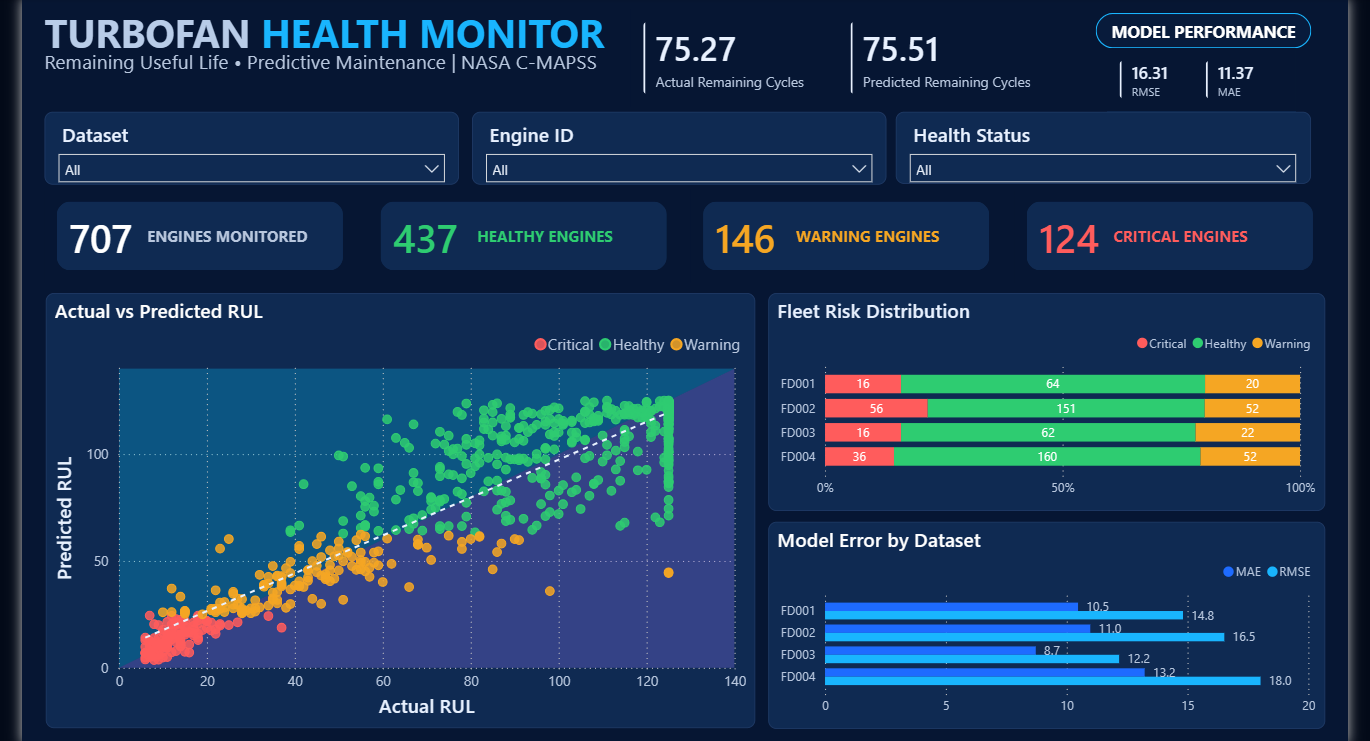

Layout of this report page (visuals, bound fields, positions):
{"tool":"powerbi","page":{"name":"Nasa","canvas":[1280,720],"ordinal":0},"visuals":[{"type":"textbox","box":[22,8,700,50],"z":0},{"type":"textbox","box":[21.7,48.3,699.7,25],"z":1000},{"type":"actionButton","box":[1036,14,208,34],"z":2000},{"type":"slicer","fields":{"Values":["vw_rul_dashboard.dataset"]},"box":[22,110,400,70],"z":3000},{"type":"slicer","fields":{"Values":["vw_rul_dashboard.engine_id"]},"box":[434,110,400,70],"z":4000},{"type":"slicer","fields":{"Values":["vw_rul_dashboard.Health Status"]},"box":[843.3,109.8,400.5,70],"z":5000},{"type":"cardVisual","fields":{"Data":["vw_rul_dashboard.Engines Count"]},"box":[22,185,300,90],"z":6000},{"type":"textbox","box":[116.2,215,182.5,30],"z":7000},{"type":"cardVisual","fields":{"Data":["vw_rul_dashboard.Healthy Engines"]},"box":[334,185,300,90],"z":8000},{"type":"textbox","box":[433.8,215,181.2,30],"z":9000},{"type":"cardVisual","fields":{"Data":["vw_rul_dashboard.Critical Engines"]},"box":[958,185,300,90],"z":10000},{"type":"textbox","box":[1048.8,215,181.2,30],"z":11000},{"type":"cardVisual","fields":{"Data":["vw_rul_dashboard.Warning Engines"]},"box":[646,185,300,90],"z":12000},{"type":"textbox","box":[742.5,215,181.2,30],"z":13000},{"type":"scatterChart","title":"Actual vs Predicted RUL","fields":{"X":["vw_rul_dashboard.actual_rul_capped"],"Y":["vw_rul_dashboard.predicted_rul"],"Series":["vw_rul_dashboard.Health Status"]},"box":[22.5,285,685,420],"z":14000},{"type":"hundredPercentStackedBarChart","title":"Fleet Risk Distribution","fields":{"Category":["vw_rul_dashboard.dataset"],"Y":["vw_rul_dashboard.Engines Count"],"Series":["vw_rul_dashboard.Health Status"]},"box":[720,285,537.5,210],"z":15000},{"type":"clusteredBarChart","title":"Model Error by Dataset","fields":{"Category":["vw_rul_dashboard.dataset"],"Y":["vw_rul_dashboard.MAE","vw_rul_dashboard.RMSE"]},"box":[720,505,537.5,200],"z":16000},{"type":"cardVisual","fields":{"Data":["vw_rul_dashboard.RMSE","vw_rul_dashboard.MAE"]},"box":[1047.5,48.8,182.5,61.2],"z":17000},{"type":"cardVisual","fields":{"Data":["vw_rul_dashboard.Actual Remaining Cycles","vw_rul_dashboard.Predicted Remaining Cycles"]},"box":[587.5,10.9,417.4,94.1],"z":17002}]}

Visuals, with their boxes on the page's 1280x720 design canvas (x1, y1, x2, y2). These are canvas units, not pixel positions in the 1370x741 screenshot, which may show the page scaled, cropped or inside an application window:
textbox: bbox=[22, 8, 722, 58]
textbox: bbox=[22, 48, 721, 73]
actionButton: bbox=[1036, 14, 1244, 48]
slicer - vw_rul_dashboard.dataset: bbox=[22, 110, 422, 180]
slicer - vw_rul_dashboard.engine_id: bbox=[434, 110, 834, 180]
slicer - vw_rul_dashboard.Health Status: bbox=[843, 110, 1244, 180]
cardVisual - vw_rul_dashboard.Engines Count: bbox=[22, 185, 322, 275]
textbox: bbox=[116, 215, 299, 245]
cardVisual - vw_rul_dashboard.Healthy Engines: bbox=[334, 185, 634, 275]
textbox: bbox=[434, 215, 615, 245]
cardVisual - vw_rul_dashboard.Critical Engines: bbox=[958, 185, 1258, 275]
textbox: bbox=[1049, 215, 1230, 245]
cardVisual - vw_rul_dashboard.Warning Engines: bbox=[646, 185, 946, 275]
textbox: bbox=[742, 215, 924, 245]
"Actual vs Predicted RUL" scatterChart: bbox=[22, 285, 708, 705]
"Fleet Risk Distribution" hundredPercentStackedBarChart: bbox=[720, 285, 1258, 495]
"Model Error by Dataset" clusteredBarChart: bbox=[720, 505, 1258, 705]
cardVisual - vw_rul_dashboard.RMSE x vw_rul_dashboard.MAE: bbox=[1048, 49, 1230, 110]
cardVisual - vw_rul_dashboard.Actual Remaining Cycles x vw_rul_dashboard.Predicted Remaining Cycles: bbox=[588, 11, 1005, 105]
